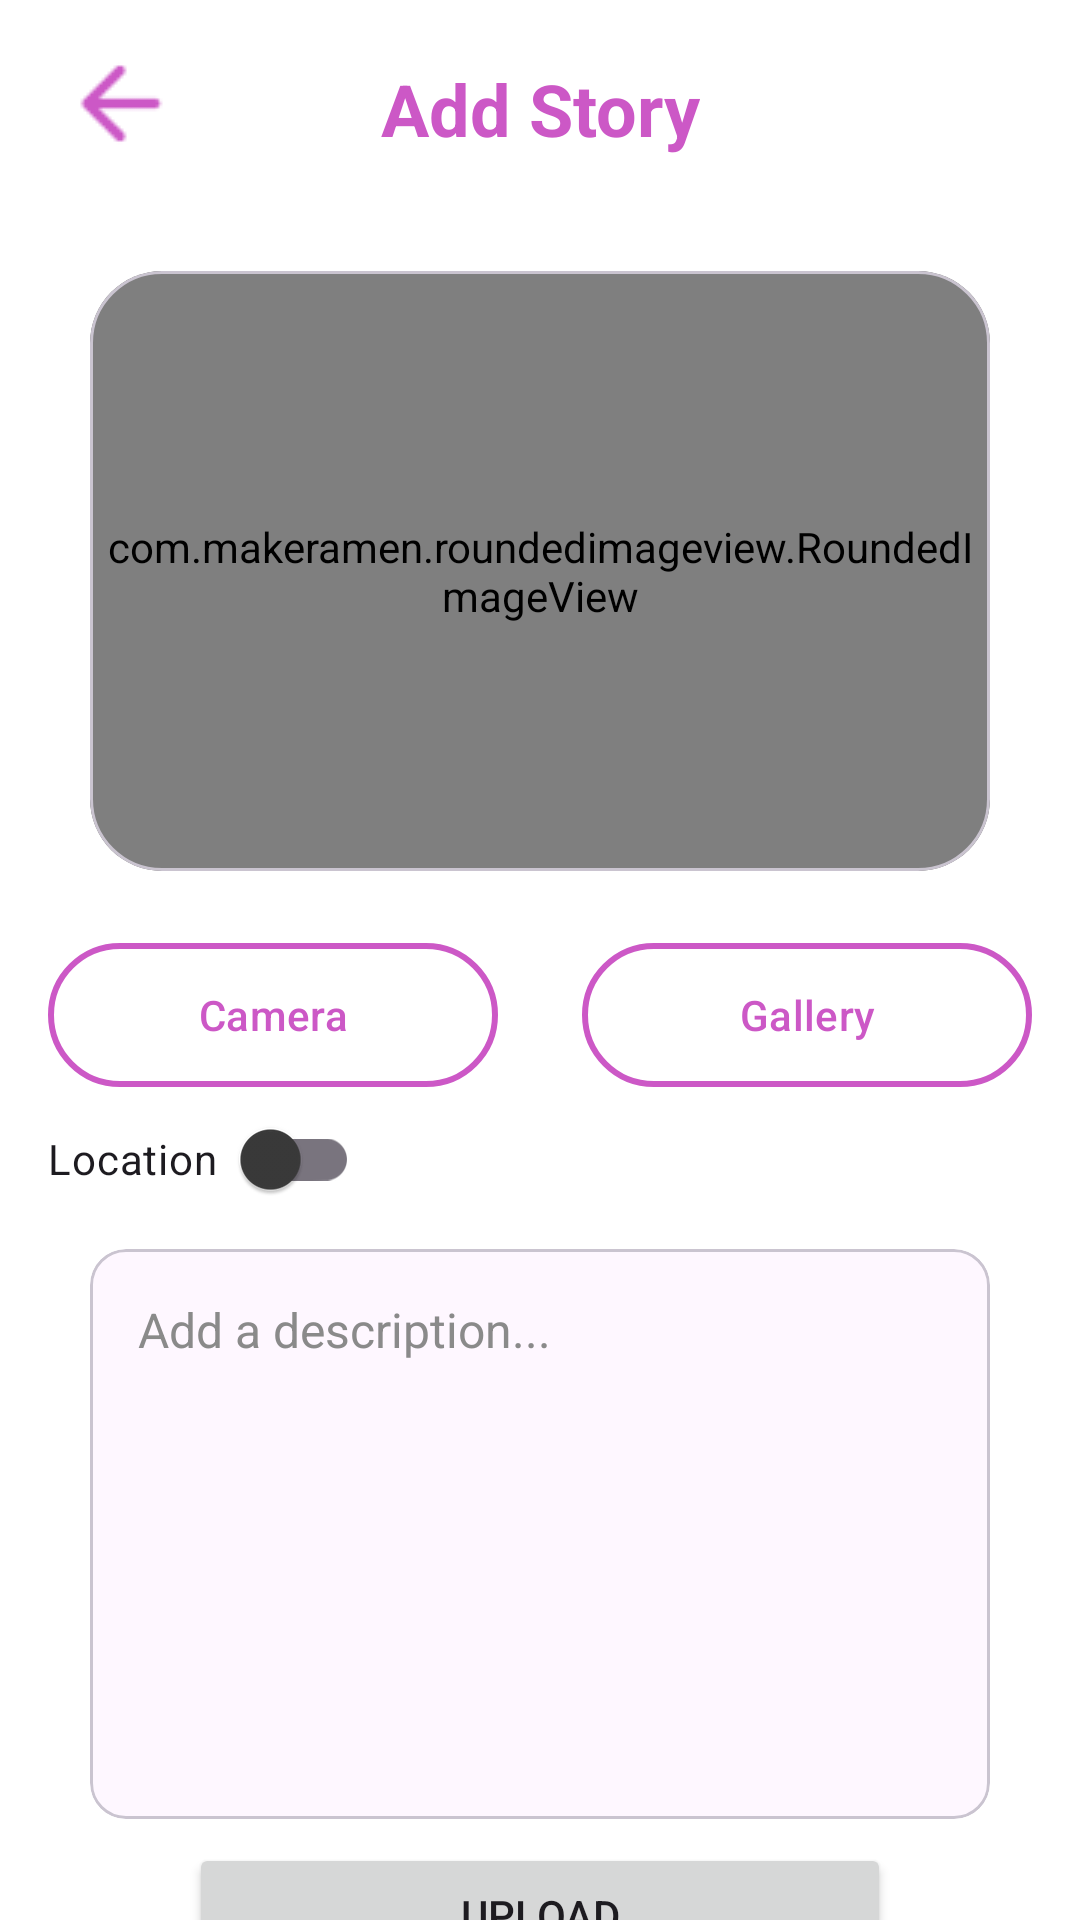

Screen size 1080x1920. Icon name, then its box in pixels as (x1, y1, x2, y2):
Button back: (80, 65, 162, 142)
